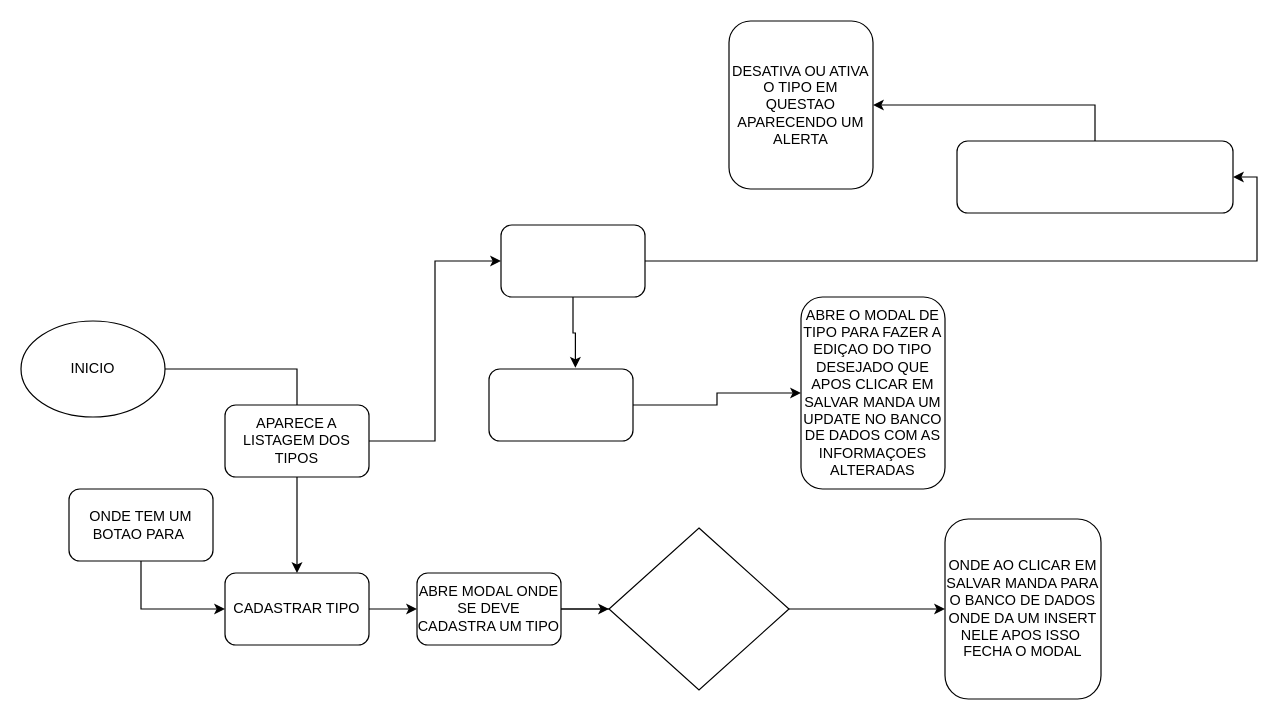
Image size: 1288x720. Some labels were removed from this diagram. Each missing label, with the centre of its shape:
"BOTAO DE ATIVAR / DESATIVAR" goes at (x=1094, y=176).
"BOTAO DE EDITAR" goes at (x=560, y=404).
"CADA TIPO CADASTRADO APARECE OS BOTOES" goes at (x=572, y=260).
"ONDE VERIFICA SE O CAMPO FOI PREENCHIDO" goes at (x=698, y=608).
